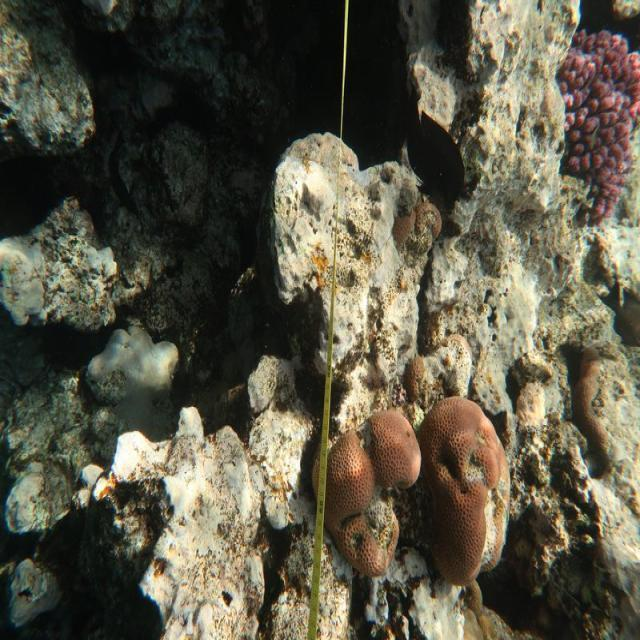Healthy Coral: (558, 33, 640, 220)
